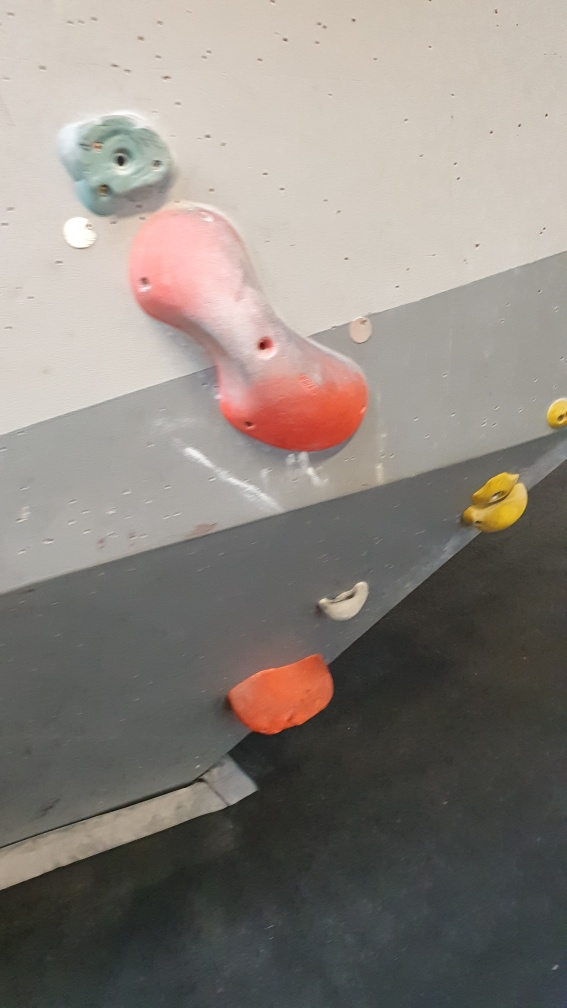Hand Start: (60, 213, 101, 252), (345, 313, 375, 347)
Jug: (317, 579, 371, 621)
Pinch: (124, 202, 372, 457)
